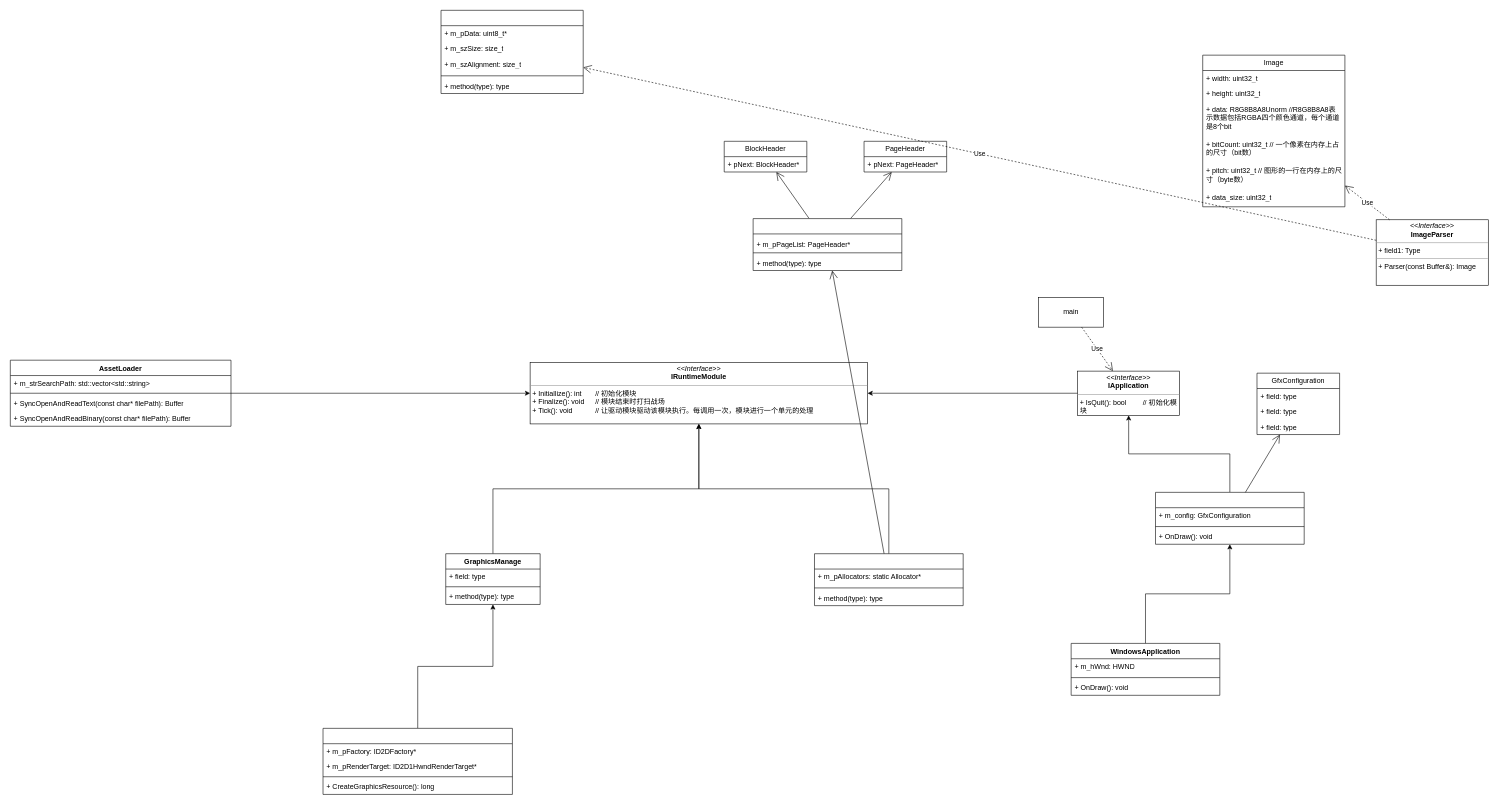
Some shapes in this 1499 by 807 pixel diagram are drawn without their labels. Each missing label, with the box of its shape:
Allocator: (753, 218, 902, 271)
BaseApplication: (1155, 492, 1304, 544)
Buffer: (440, 10, 583, 94)
D2dGraphicsManage: (322, 728, 512, 794)
MemoryManager: (814, 553, 963, 606)
